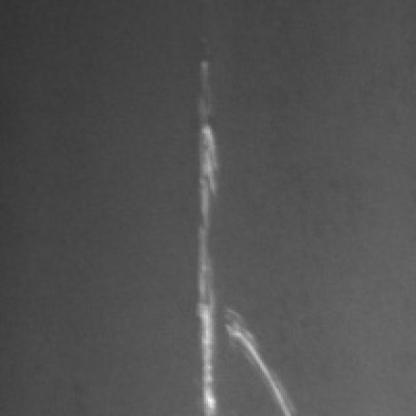scratches: (191, 46, 227, 412), (222, 297, 310, 412)
